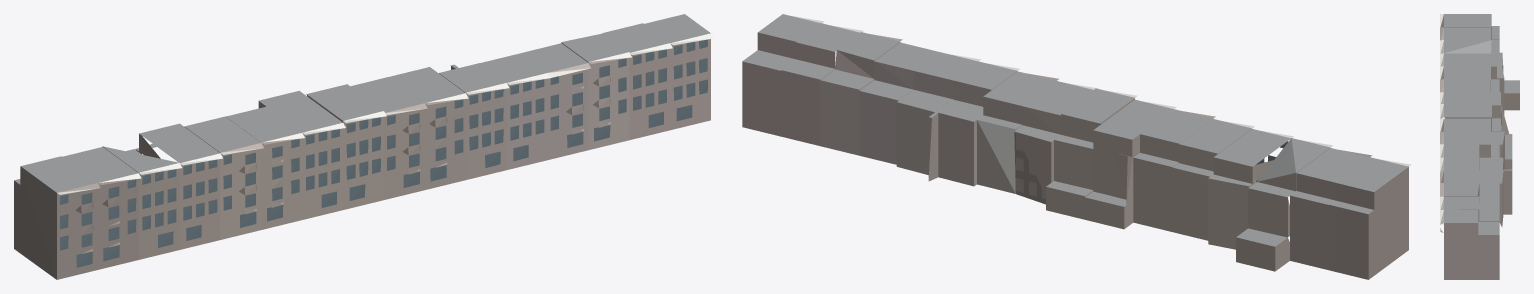
The model's file is chunk-face-boterdiep-36-66.lod2.glb.
3 views of the same model, side by side, from view 1: azimuth 30°, elevation 25°; view 2: azimuth 150°, elevation 25°; view 3: azimuth 270°, elevation 25° (orthographic). The views are drawn at different scales.
Parts seen in each view (by area): view 1: lod2; view 2: lod2; view 3: lod2.
Boxes of the visible parts, x1=… form: lod2: x1=14, y1=14, x2=713, y2=279; lod2: x1=742, y1=14, x2=1411, y2=279; lod2: x1=1440, y1=14, x2=1519, y2=279.
Size of the model in its own units: 97.64 by 12.72 by 15.75.
